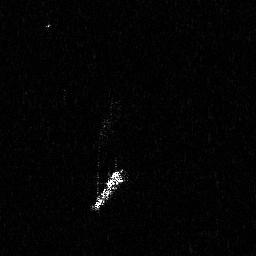ship: (86, 165, 128, 214)
